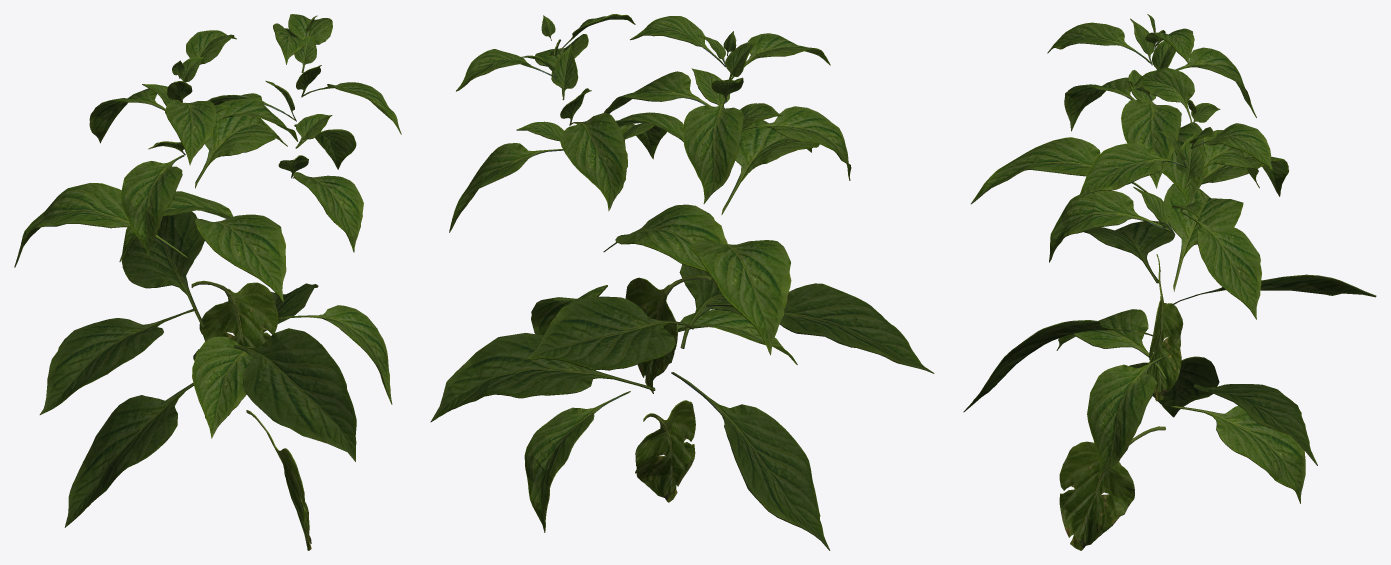
Rendered from VG07_9_leaves.dae.
The picture shows the model from 3 angles, left to right: view 1: azimuth 30°, elevation 25°; view 2: azimuth 150°, elevation 25°; view 3: azimuth 270°, elevation 25°; orthographic projection. The views are drawn at different scales.
Visible parts, largest first — view 1: VG07_018; view 2: VG07_018; view 3: VG07_018.
Part boxes in pixels (x1,y1,x2,y2): VG07_018: [14, 14, 401, 550]; VG07_018: [430, 14, 934, 550]; VG07_018: [963, 14, 1376, 550].
Size of the model in its own units: 19.05 by 17.99 by 23.78.
